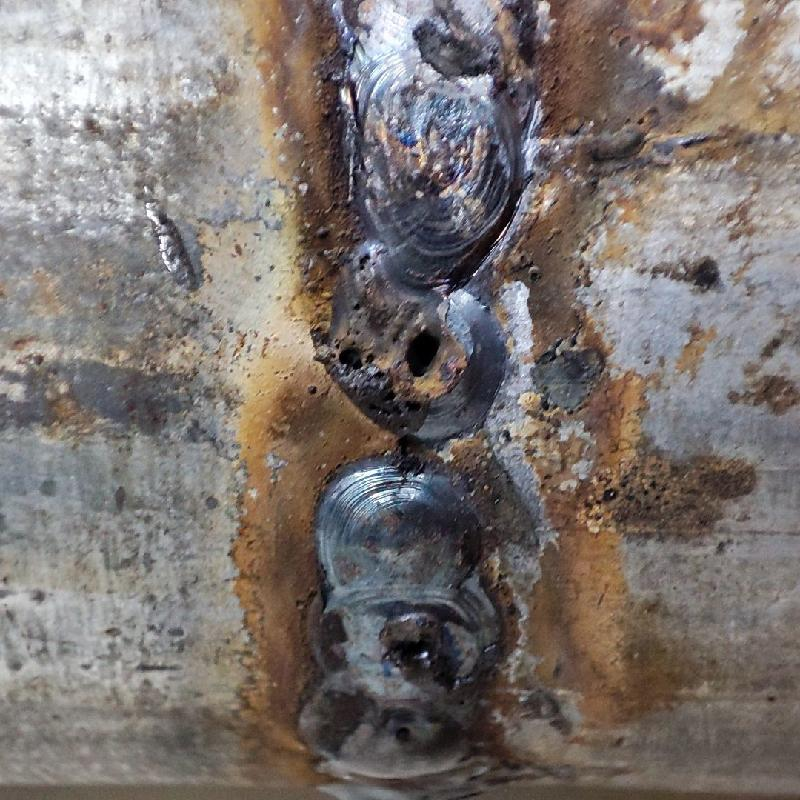Surface_pores: (323, 300, 463, 400), (371, 612, 448, 679), (378, 712, 437, 758)
wrong_size: (263, 2, 530, 796)
